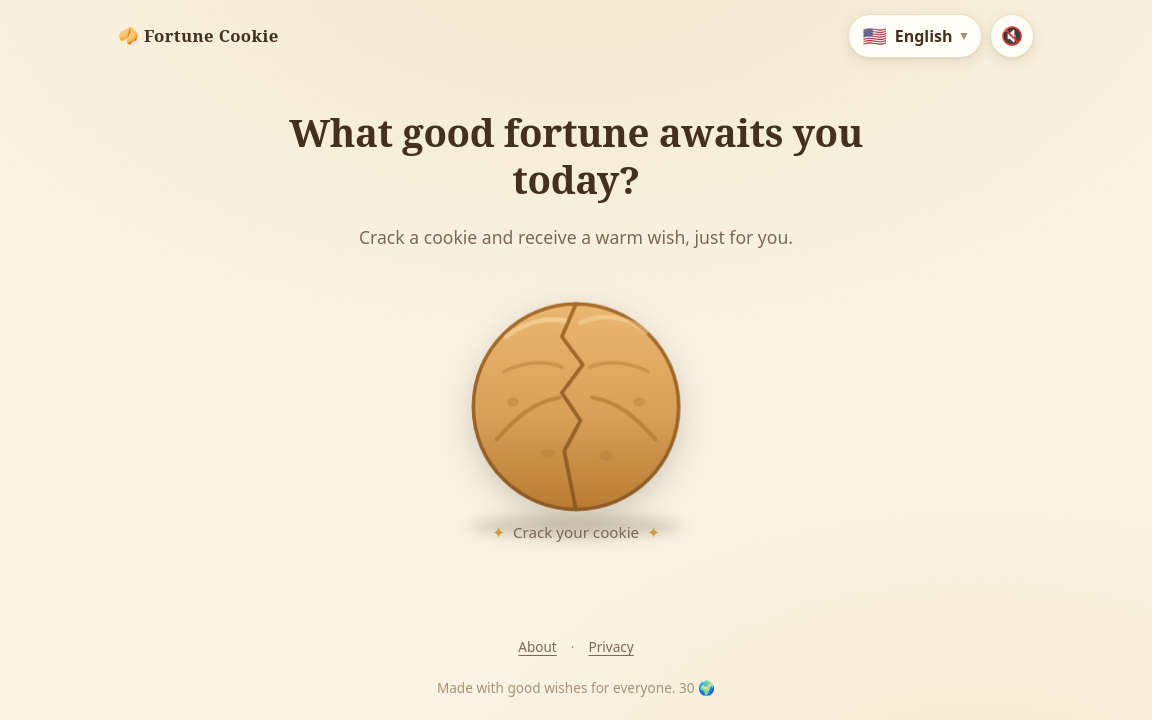
it: Fortune Cookie experience › copies the fortune to the clipboard with feedback
Click the button with test id "cookie" at (576, 406), box [416,273,736,540]
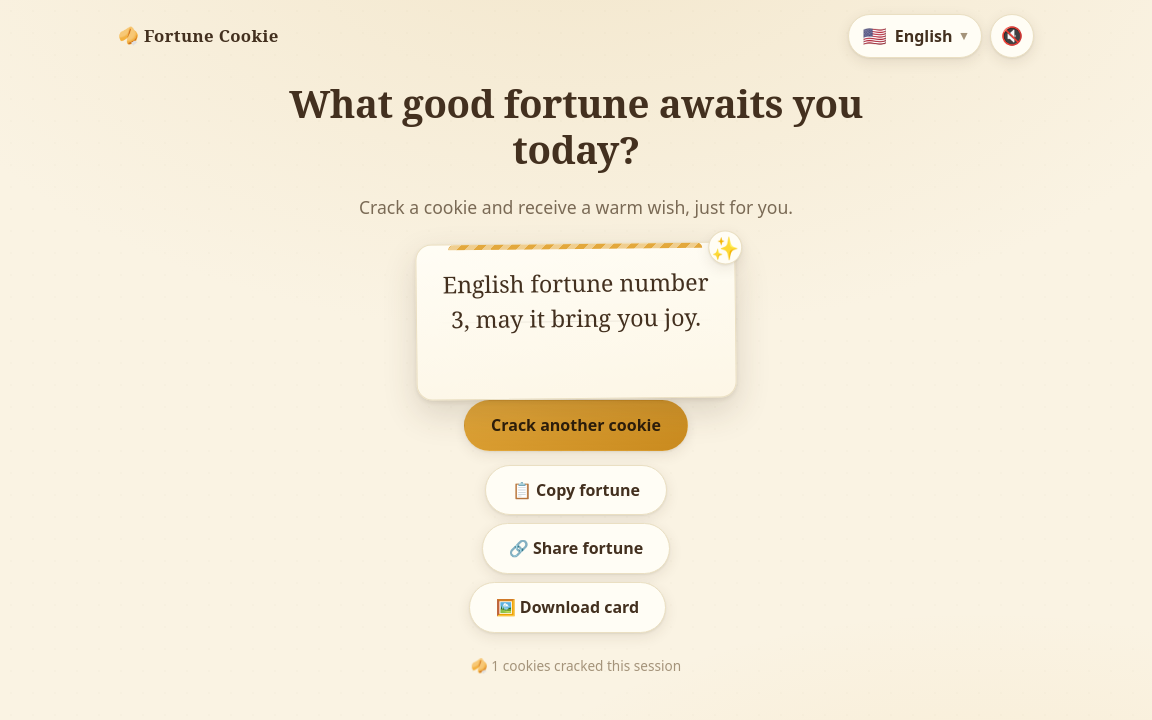
Click the button with test id "copy-btn" at (576, 490), box [485,465,667,515]
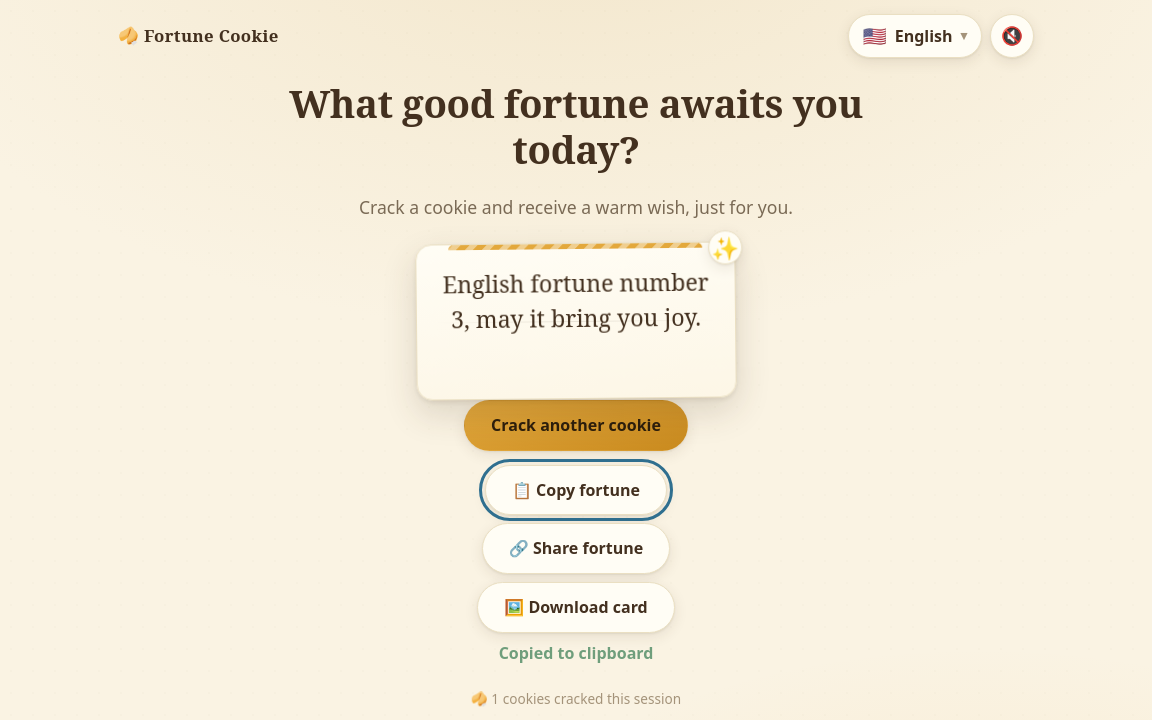
Now the text with test id "copy-feedback" shows "Copied", box [499,642,653,664]
